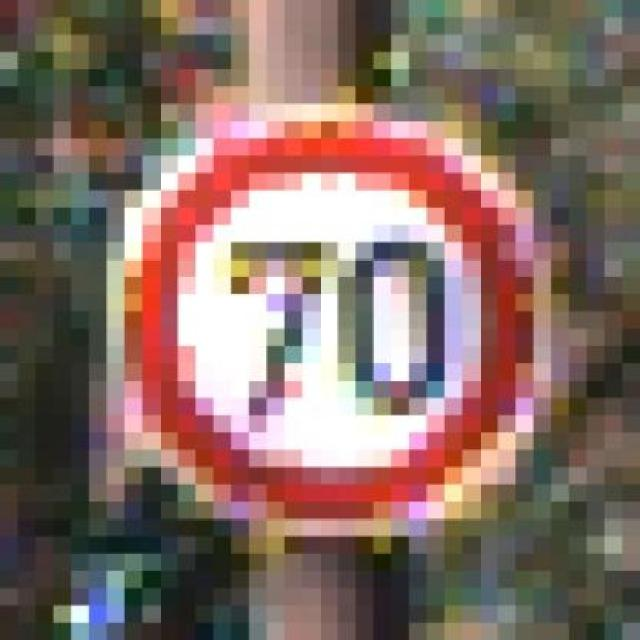forb_speed_over_70: (127, 121, 531, 524)
